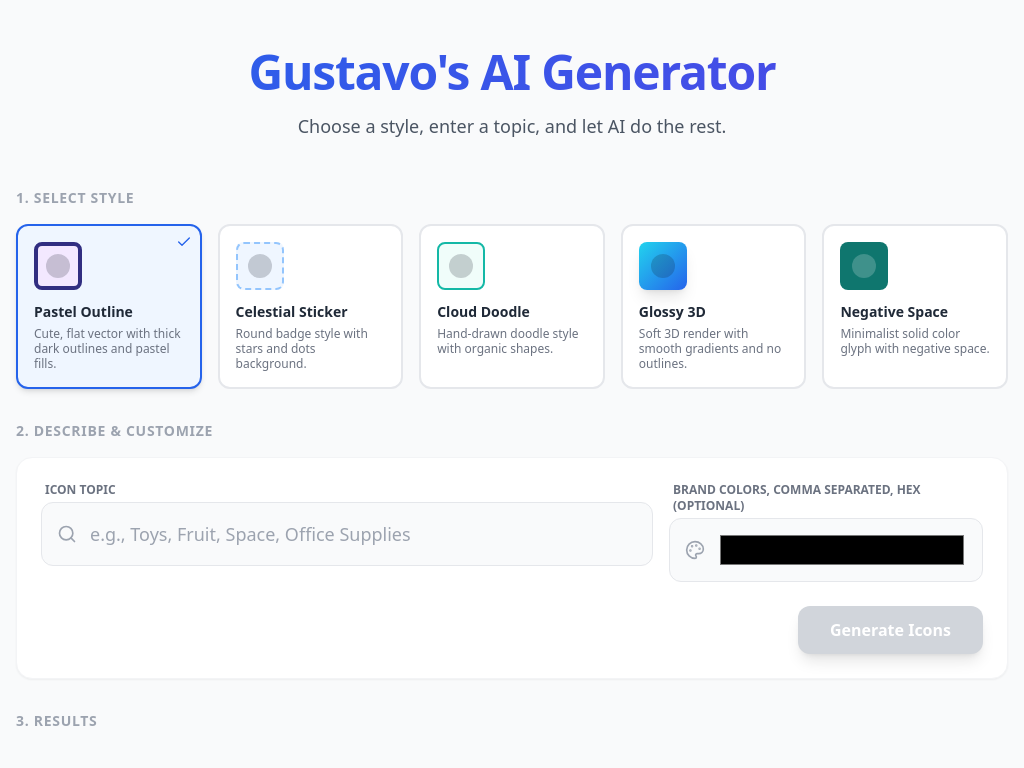
Test case: App › shows error toast on API failure
Type "Fruit" into the field with placeholder "e.g., Toys, Fruit, Space, Office Supplies" at [347, 534], box [41,502,653,566]
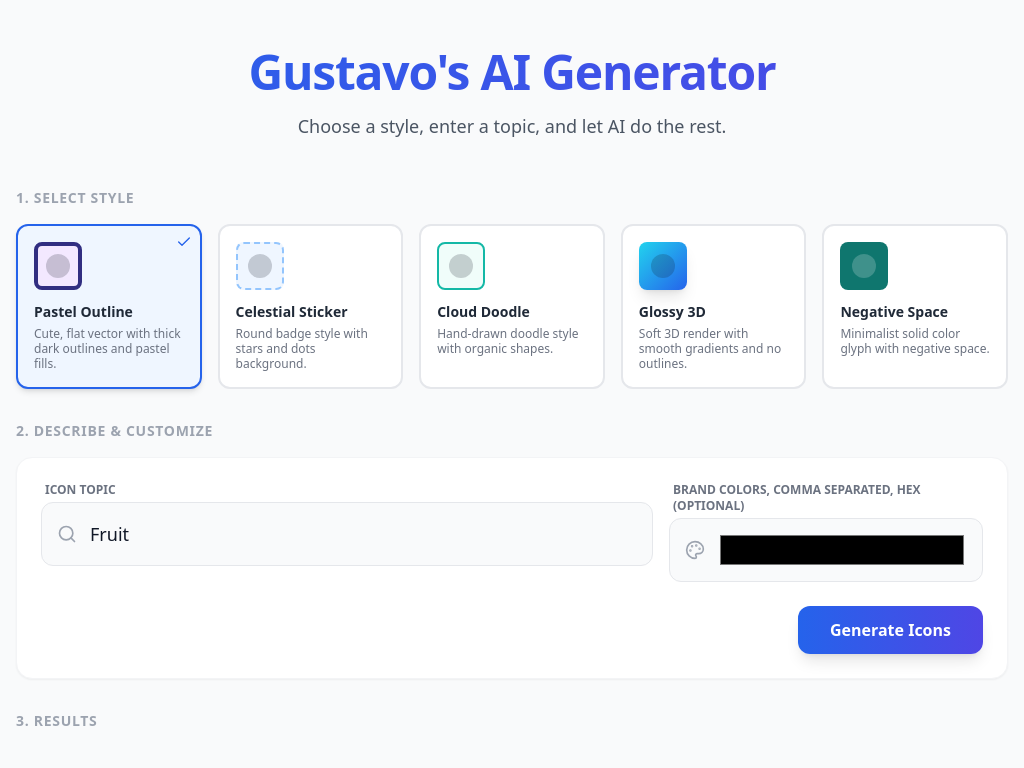
Click the button "Generate Icons" at [890, 630], box [798,606,983,654]
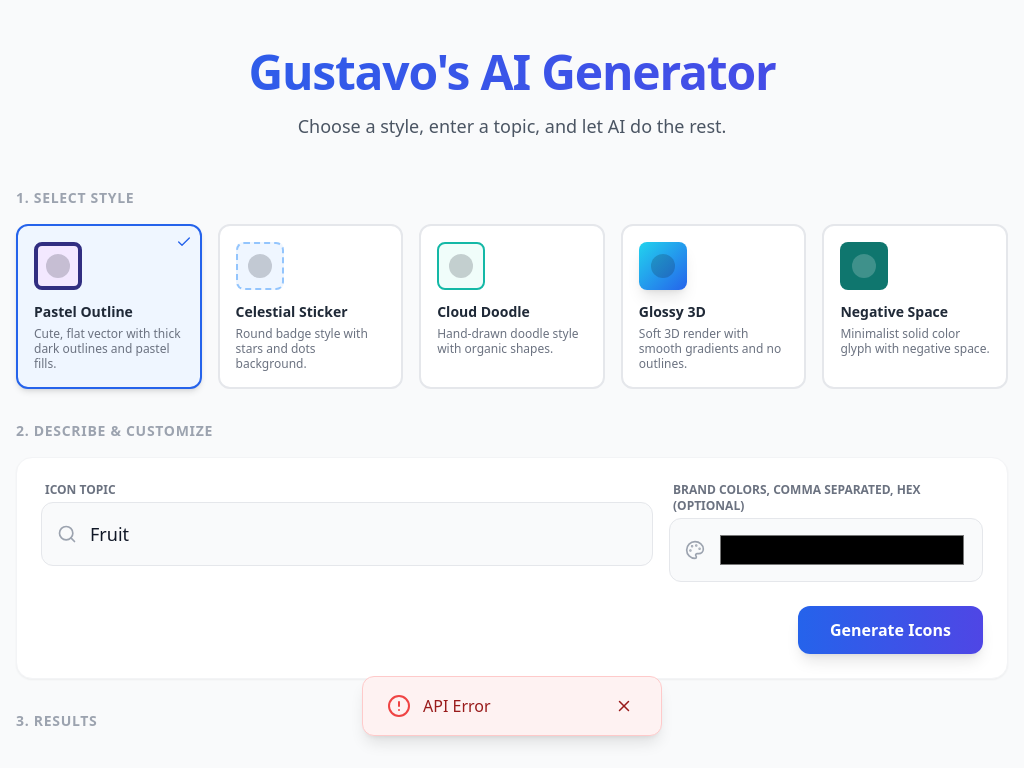
Now the text "API Error" is shown, box [423,695,491,717]
